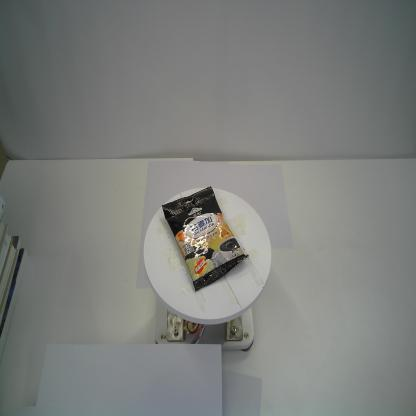Instant Drink: (161, 185, 249, 292)
